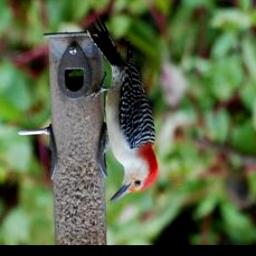Woodpecker: (83, 15, 159, 203)
